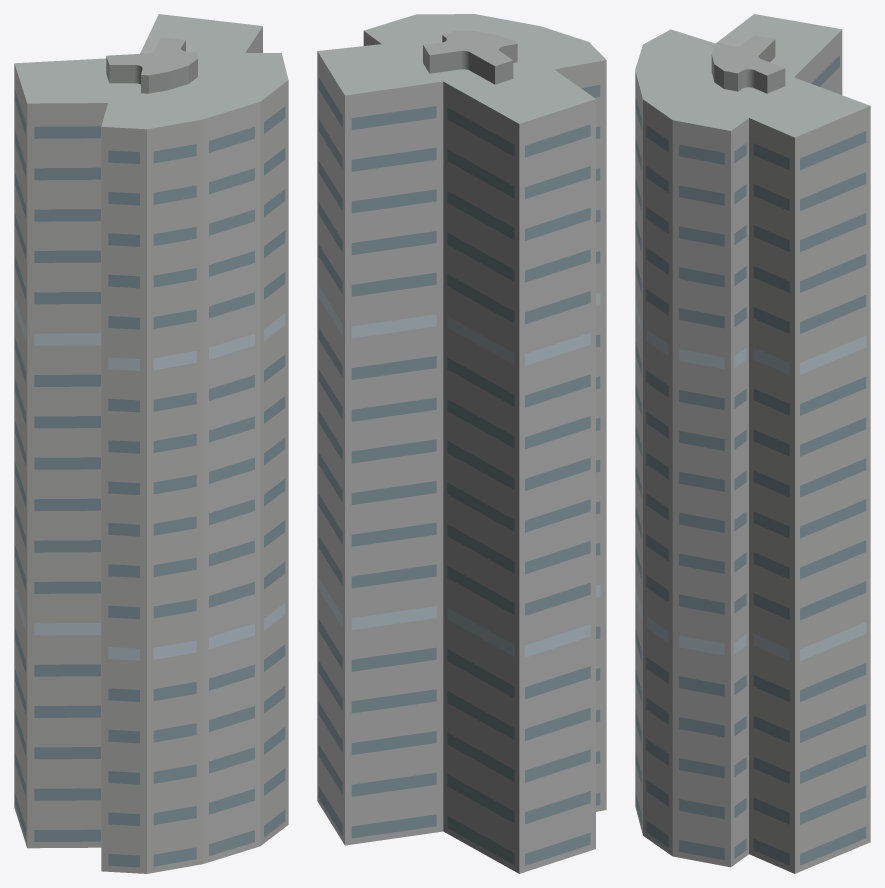
File: fallback-jamsil-parkrio-224.glb
The picture shows the model from 3 angles, left to right: view 1: azimuth 30°, elevation 25°; view 2: azimuth 150°, elevation 25°; view 3: azimuth 270°, elevation 25°; orthographic projection.
Visible parts, largest first — view 1: fallback-jamsil-parkrio-224; view 2: fallback-jamsil-parkrio-224; view 3: fallback-jamsil-parkrio-224.
Part boxes in pixels (x1,y1,x2,y2): fallback-jamsil-parkrio-224: [14, 14, 288, 873]; fallback-jamsil-parkrio-224: [317, 14, 606, 873]; fallback-jamsil-parkrio-224: [635, 14, 870, 873].
Size of the model in its own units: 35.16 by 100 by 28.31.
